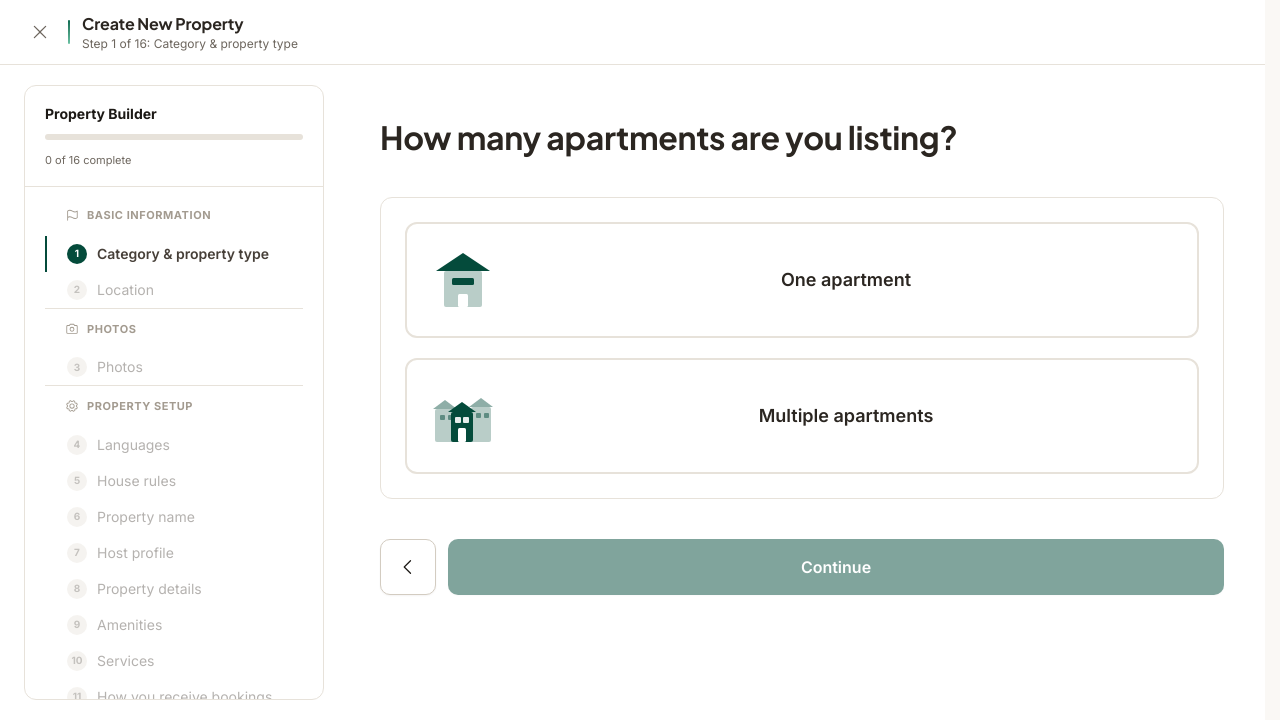
it: PropertyScopePage — quick-start intro › goes back to the category chooser
What coordinates should you click on to do the following:
click the button named "Back"
I would click on:
 (408, 567)
Its box is [380,539,436,595].
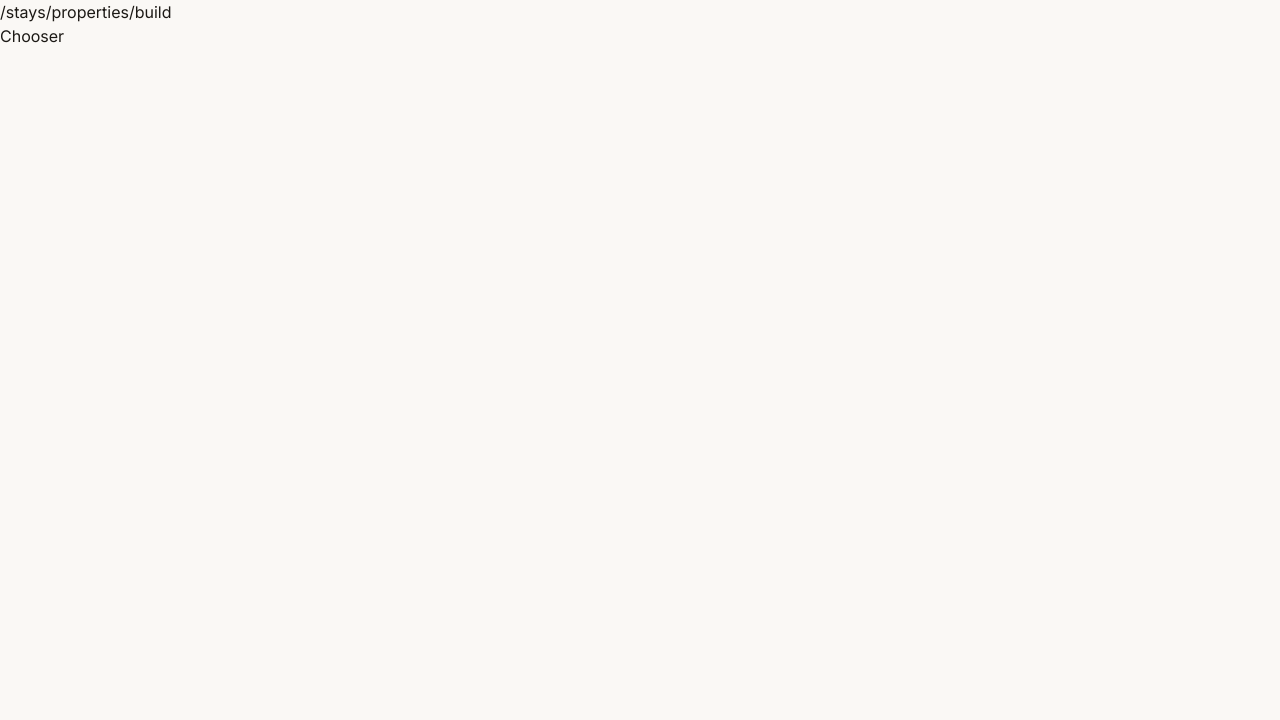
Expected: the text with test id "location" reads "/stays/properties/build", [0,2,172,22]
